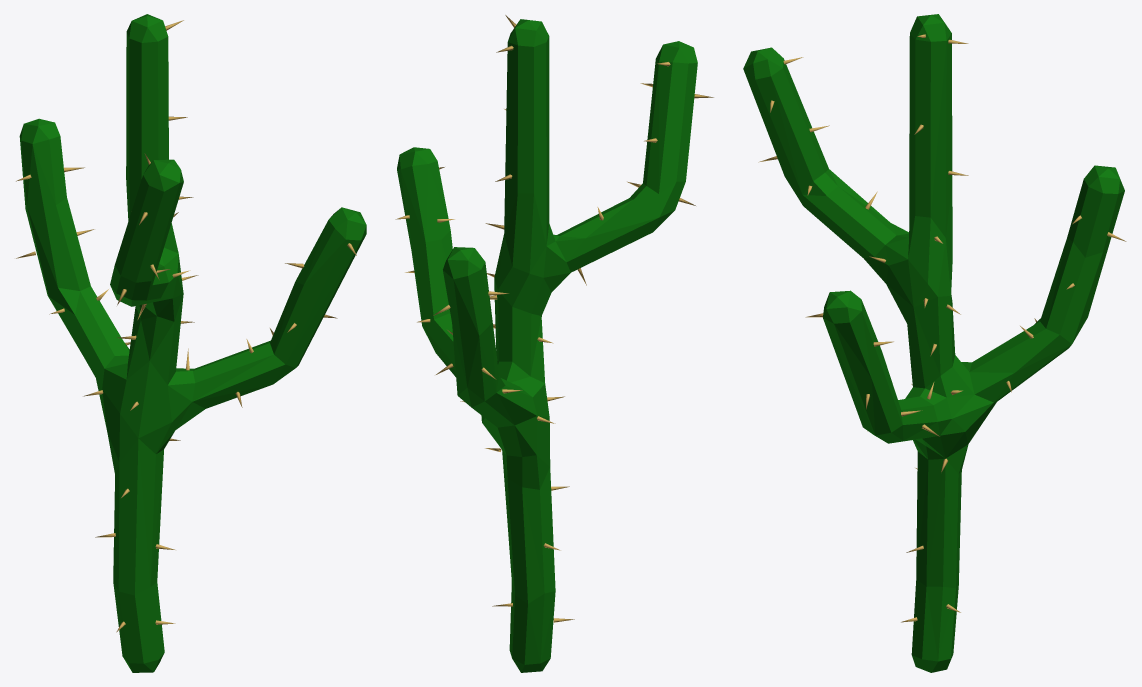
The model's file is Cactus1 1.fbx.
3 views of the same model, side by side, from view 1: azimuth 30°, elevation 25°; view 2: azimuth 150°, elevation 25°; view 3: azimuth 270°, elevation 25° (orthographic).
Visible parts, largest first — view 1: Cactus1; view 2: Cactus1; view 3: Cactus1.
Boxes of the visible parts, <box> form: Cactus1: <box>19,14,366,672</box>; Cactus1: <box>397,19,697,672</box>; Cactus1: <box>743,14,1124,672</box>.
Size of the model in its own units: 336 by 769 by 407.
